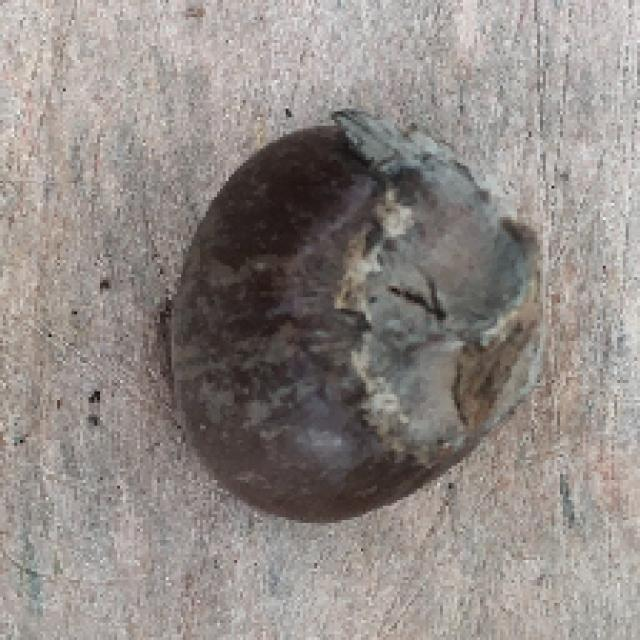damagedHazelnut: (154, 103, 567, 524)
